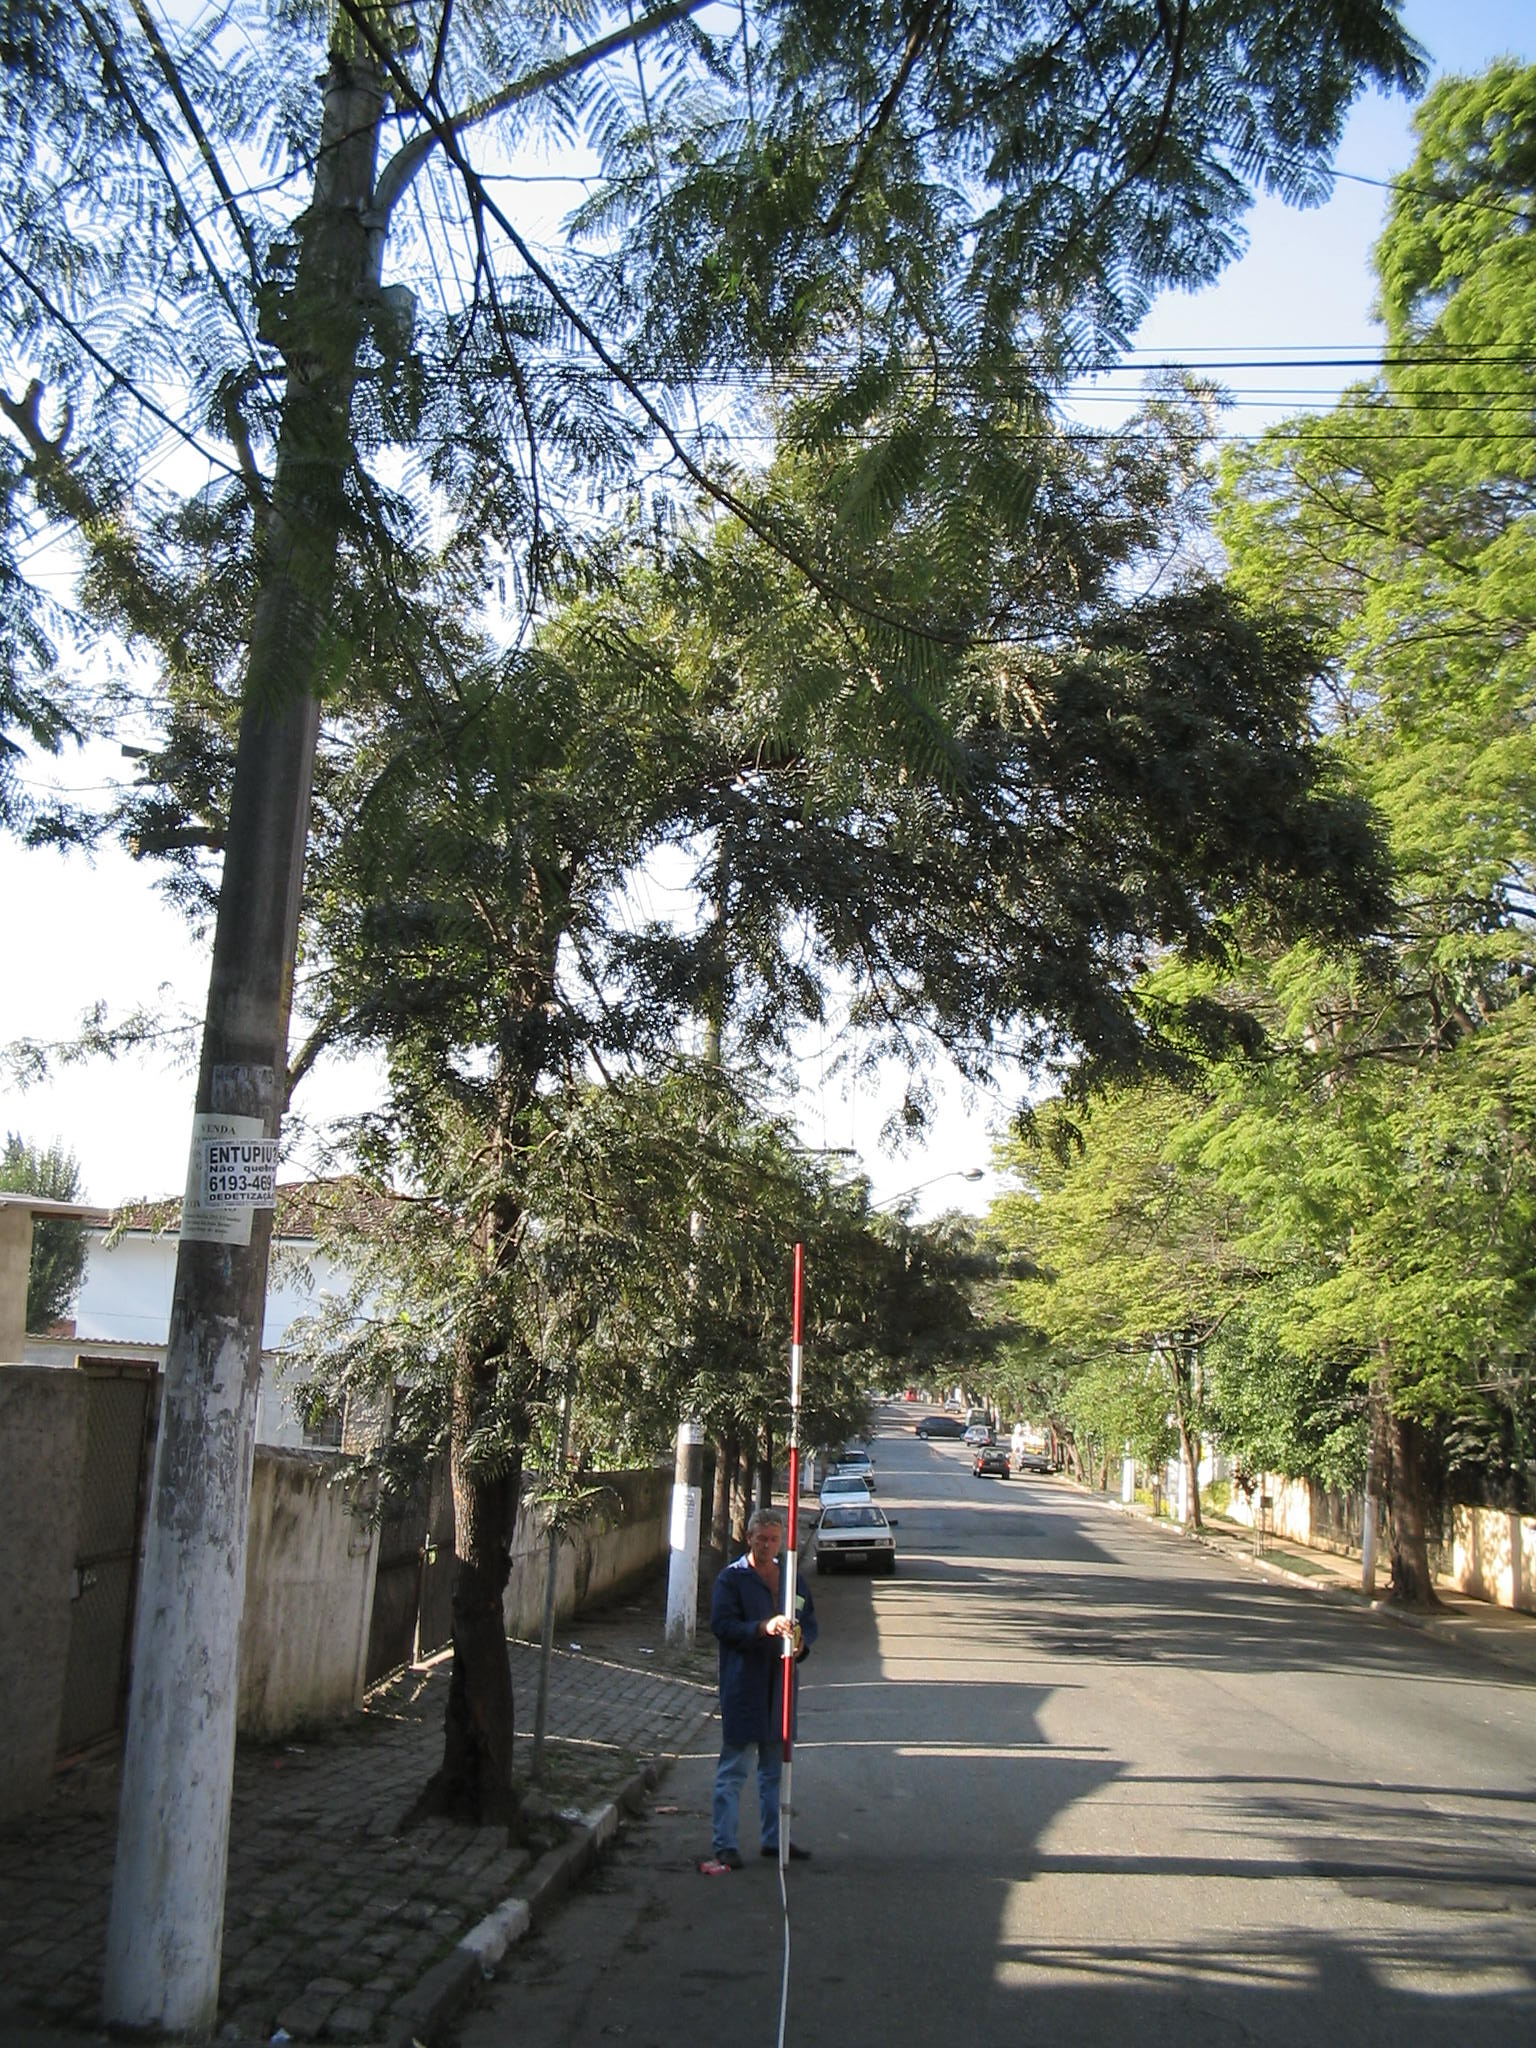crown: (200, 377, 1397, 1248)
stem: (416, 1464, 553, 1827)
stick: (757, 1248, 824, 1864)
tree: (184, 373, 1405, 1825)
